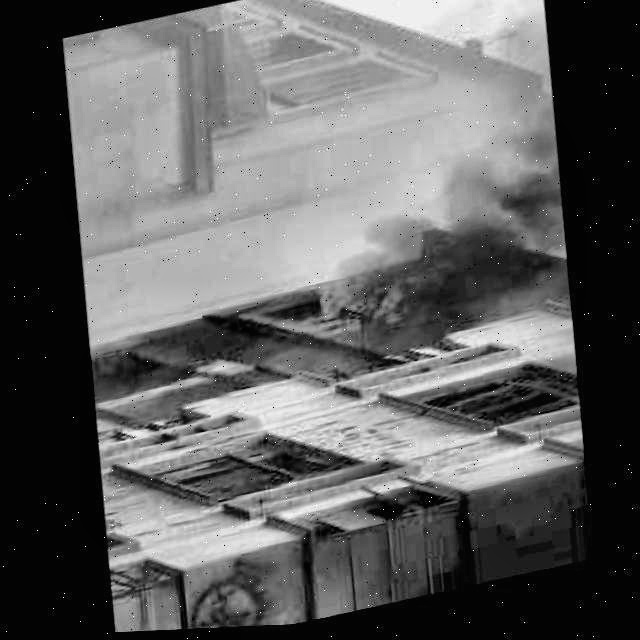Fire: (302, 257, 438, 349)
Smoke: (382, 92, 586, 284)
